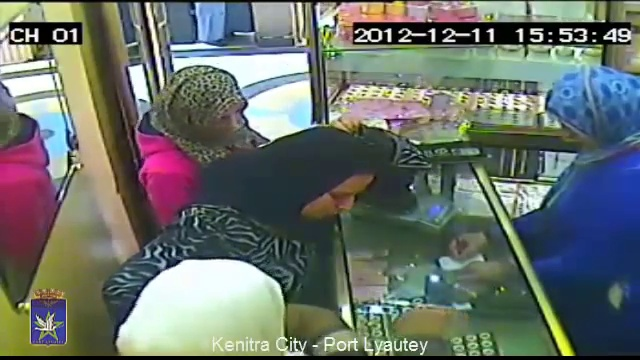face: (312, 171, 363, 222), (211, 102, 245, 140)
